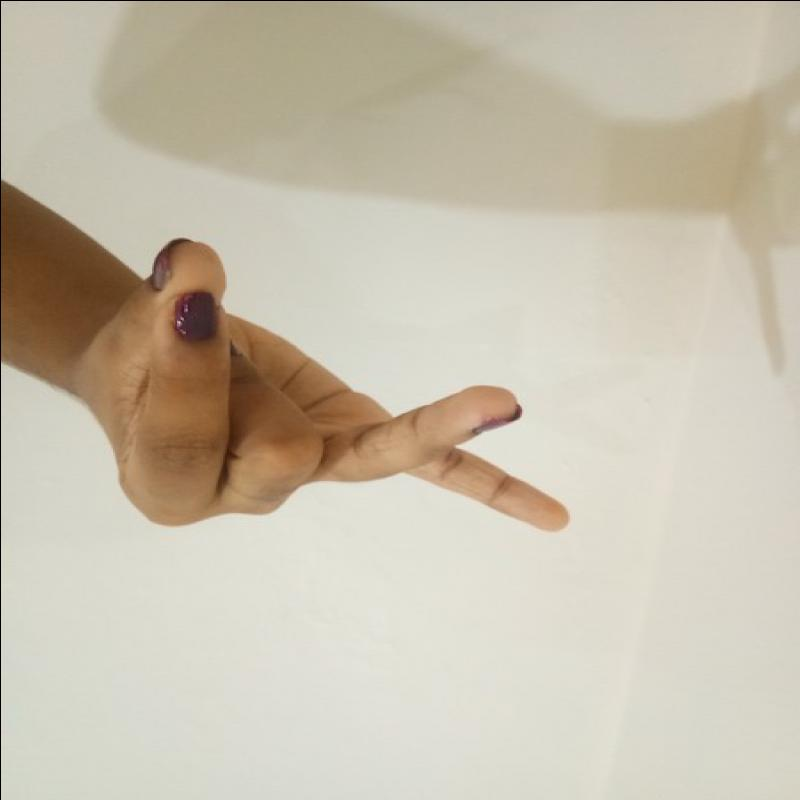Katakam: (69, 221, 605, 565)
